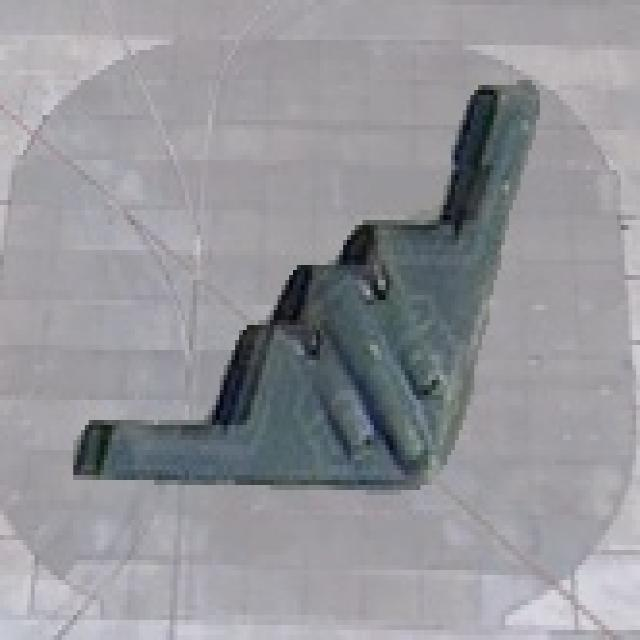B-2_TopDown: (69, 70, 540, 495)
